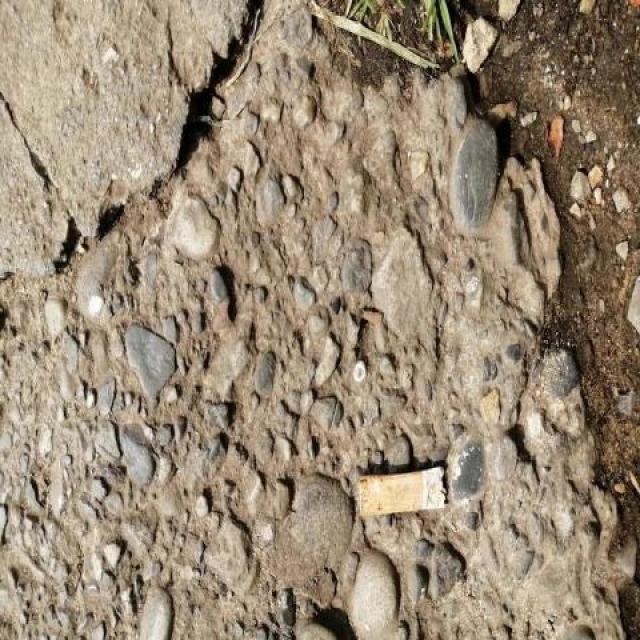non-organic waste: (352, 456, 452, 524)
